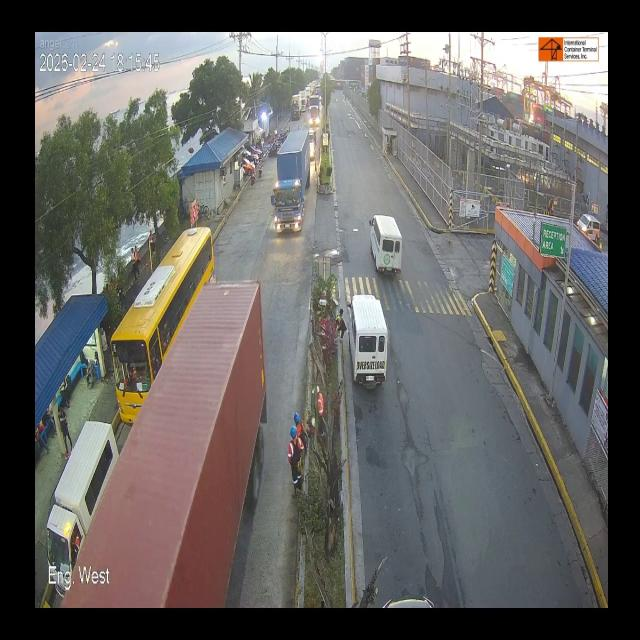bus: (108, 220, 219, 431)
car: (39, 437, 107, 567), (351, 300, 393, 398), (368, 204, 414, 276)
truck: (76, 282, 276, 596), (269, 125, 315, 238), (308, 92, 321, 129), (290, 91, 302, 120)
